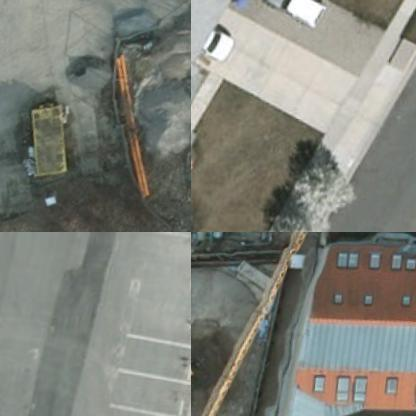car: (191, 8, 246, 62), (256, 0, 340, 30)
